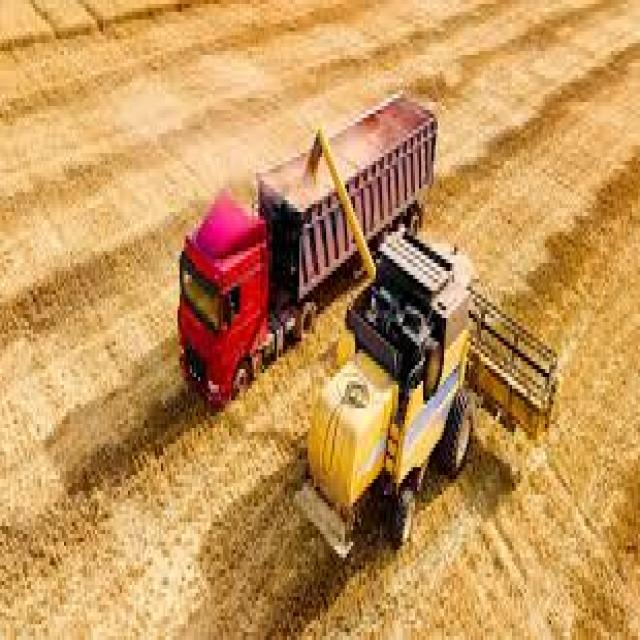truck: (167, 27, 463, 420)
